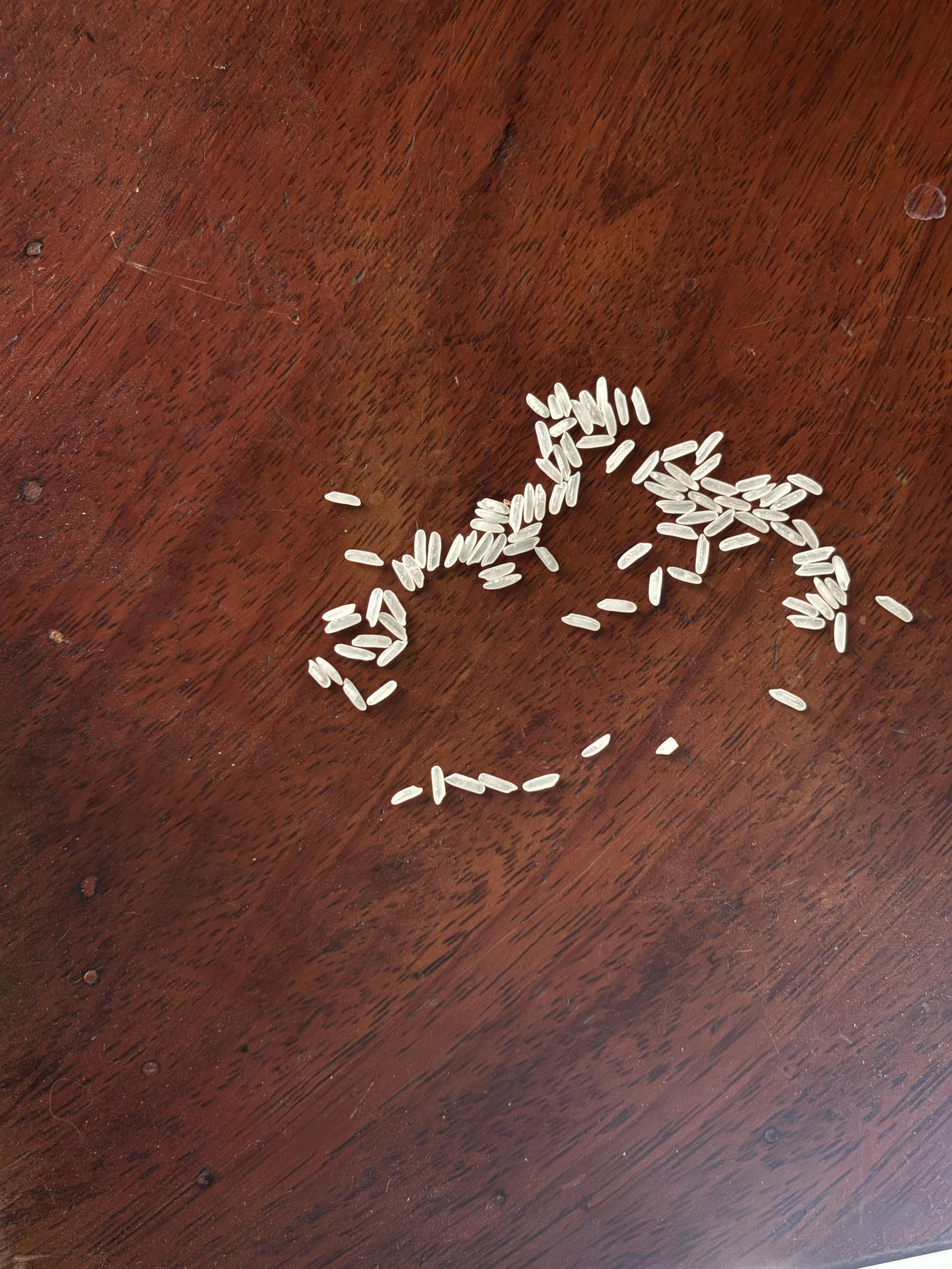Rice-th-y-nh: (664, 463, 699, 490), (877, 596, 913, 622), (606, 440, 634, 472), (617, 543, 651, 569), (769, 522, 805, 546), (580, 391, 605, 425), (632, 453, 659, 484), (696, 432, 722, 464), (481, 534, 507, 566), (468, 532, 494, 564), (704, 510, 734, 536), (691, 455, 721, 481), (793, 519, 819, 549), (814, 577, 839, 608), (384, 591, 406, 626), (806, 593, 834, 620), (770, 490, 806, 511), (377, 640, 406, 666), (735, 511, 769, 533), (343, 679, 367, 710), (446, 774, 485, 793), (392, 559, 415, 591), (379, 613, 406, 640), (770, 689, 806, 709), (644, 482, 684, 500), (561, 433, 582, 467), (788, 474, 822, 495), (689, 491, 723, 512), (479, 774, 516, 793), (326, 613, 361, 633), (652, 472, 687, 492), (572, 401, 593, 434), (403, 555, 424, 588), (367, 682, 397, 705), (335, 644, 375, 661), (316, 658, 342, 684), (632, 387, 650, 424), (366, 589, 384, 626), (783, 598, 818, 617), (483, 573, 522, 590), (509, 523, 542, 543), (793, 547, 834, 563), (760, 484, 791, 505), (535, 421, 553, 457), (661, 442, 697, 460), (582, 735, 611, 757), (345, 549, 384, 565), (719, 534, 758, 550), (536, 459, 563, 482), (504, 538, 540, 555), (479, 563, 515, 580), (523, 774, 559, 791), (715, 495, 751, 512), (553, 446, 571, 480), (562, 614, 600, 630), (658, 523, 698, 538), (695, 534, 710, 574), (445, 535, 463, 568), (825, 578, 847, 605), (701, 477, 734, 495), (677, 510, 716, 525), (598, 598, 637, 613), (833, 556, 850, 590), (743, 485, 777, 502), (535, 547, 558, 572), (308, 661, 330, 687), (431, 766, 446, 804), (391, 786, 422, 804), (460, 530, 478, 561), (788, 615, 825, 630), (657, 500, 696, 514), (668, 567, 702, 583), (323, 604, 355, 621), (353, 634, 391, 648), (527, 393, 549, 417), (549, 483, 566, 514), (614, 389, 629, 424), (577, 434, 614, 448), (649, 567, 663, 604), (477, 498, 509, 514), (795, 563, 834, 576), (834, 613, 847, 652), (753, 508, 789, 522), (533, 485, 547, 521), (735, 476, 770, 490), (510, 495, 523, 532), (602, 403, 617, 435), (555, 384, 571, 414), (550, 418, 575, 437), (325, 492, 361, 505), (428, 533, 441, 569), (414, 529, 426, 567), (567, 472, 580, 507), (471, 520, 504, 533), (475, 509, 505, 522), (524, 484, 534, 521), (656, 738, 678, 754), (548, 395, 562, 419), (597, 378, 607, 405)
